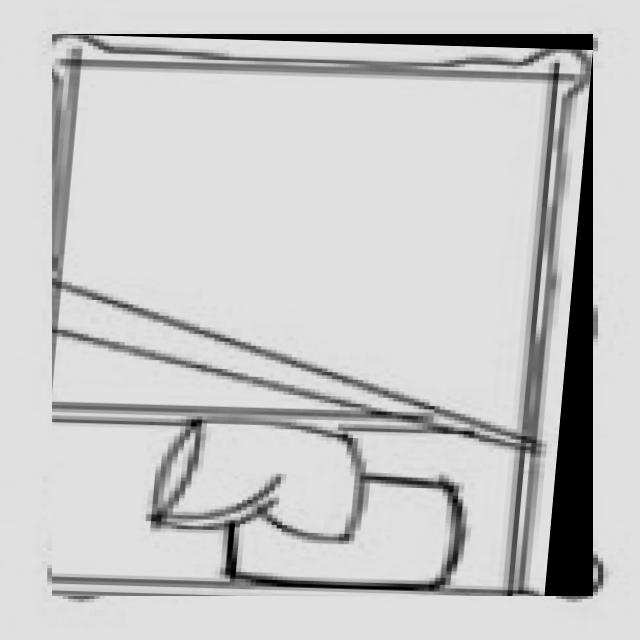bed: (52, 34, 593, 596)
